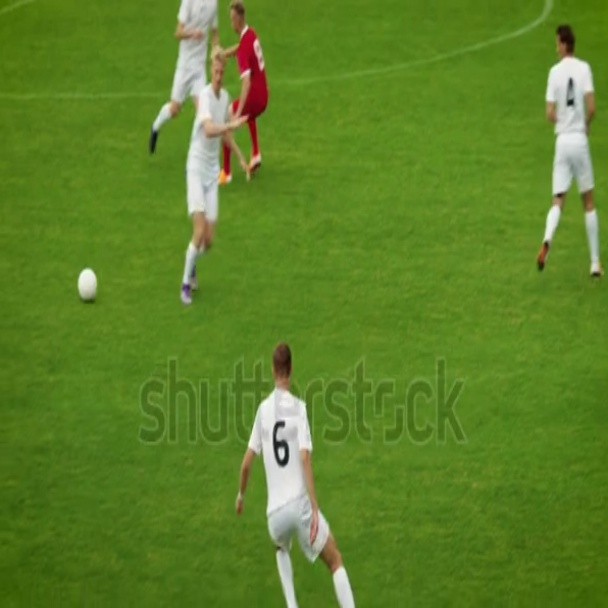ball: (79, 268, 96, 297)
